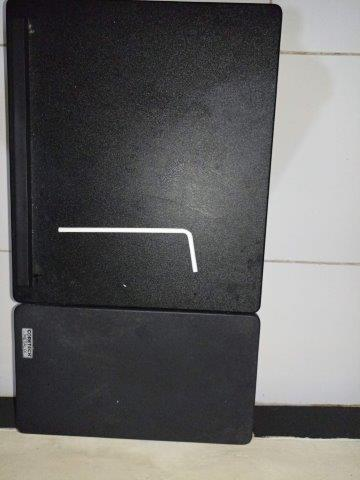sedotan: (58, 226, 199, 273)
